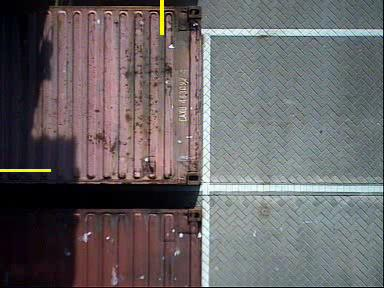groundmarker_2: (174, 58, 251, 101)
